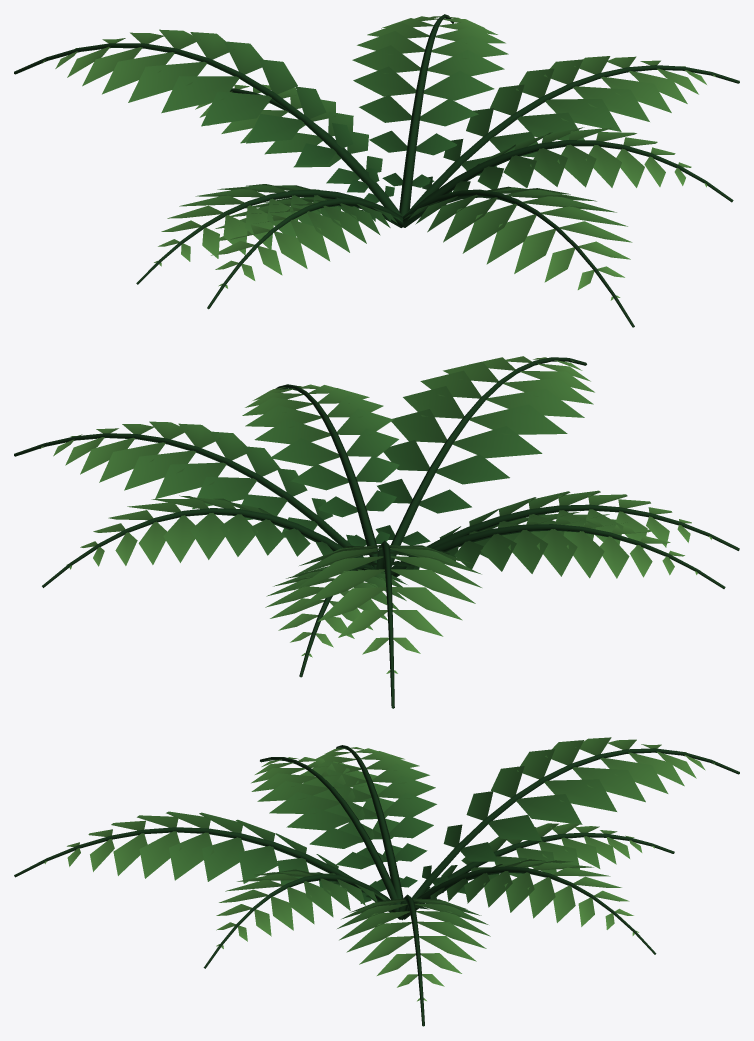
Rendered from fern_green.glb.
3 renders of one model, top to bottom at view 1: azimuth 30°, elevation 25°; view 2: azimuth 150°, elevation 25°; view 3: azimuth 270°, elevation 25°, orthographic. The views are drawn at different scales.
Visible parts, largest first — view 1: fern_green; view 2: fern_green; view 3: fern_green.
Boxes of the visible parts, x1=… form: fern_green: x1=14, y1=14, x2=739, y2=327; fern_green: x1=14, y1=356, x2=739, y2=708; fern_green: x1=14, y1=737, x2=739, y2=1026.
Bounding box in the file's own units: 1.21 × 0.2255 × 1.3.
